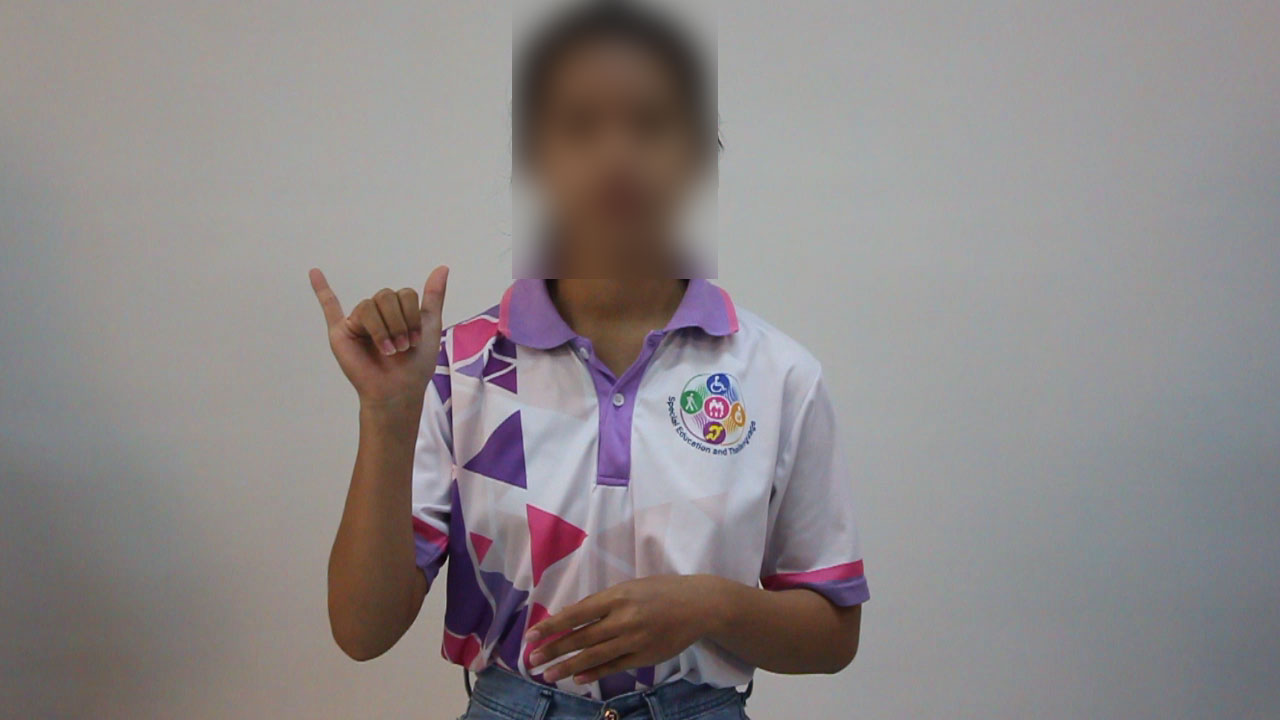yor: (300, 256, 473, 407)
